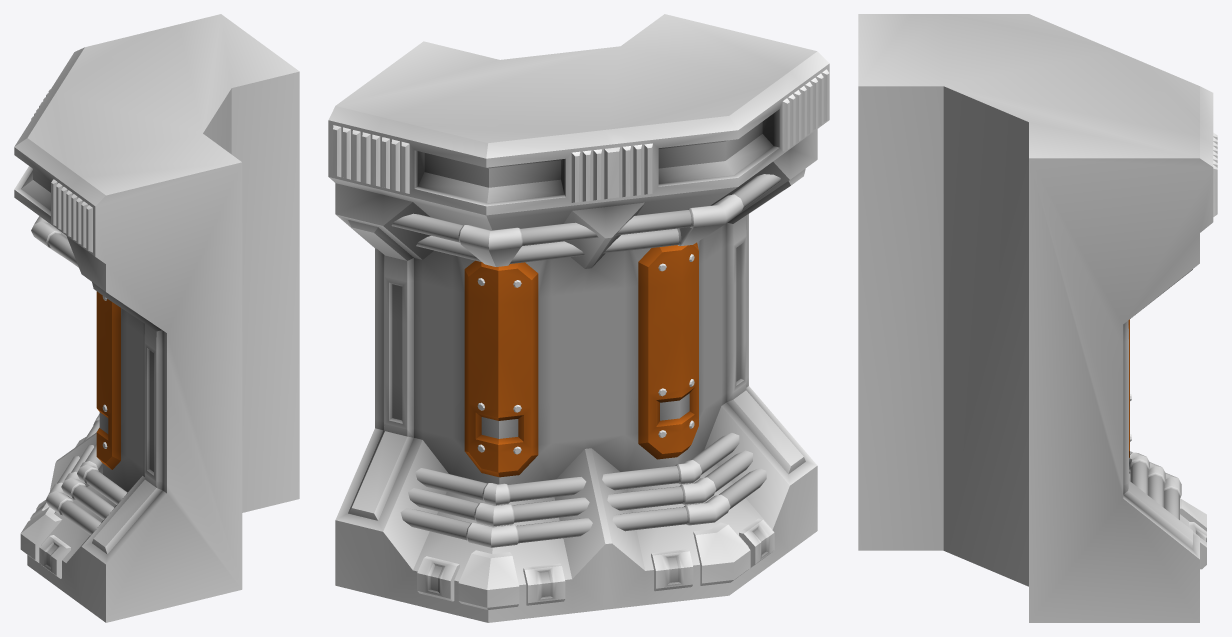
The model's file is wallCurveOut_B.FBX.
3 renders of one model, left to right at view 1: azimuth 30°, elevation 25°; view 2: azimuth 150°, elevation 25°; view 3: azimuth 270°, elevation 25°, orthographic. The views are drawn at different scales.
Parts seen in each view (by area): view 1: wallCurveOut_B; view 2: wallCurveOut_B; view 3: wallCurveOut_B.
Part boxes in pixels (x1,y1,x2,y2): wallCurveOut_B: (14, 14, 299, 622); wallCurveOut_B: (328, 14, 829, 622); wallCurveOut_B: (858, 14, 1217, 622).
Bounding box in the file's own units: 2.1 × 3 × 2.1.
